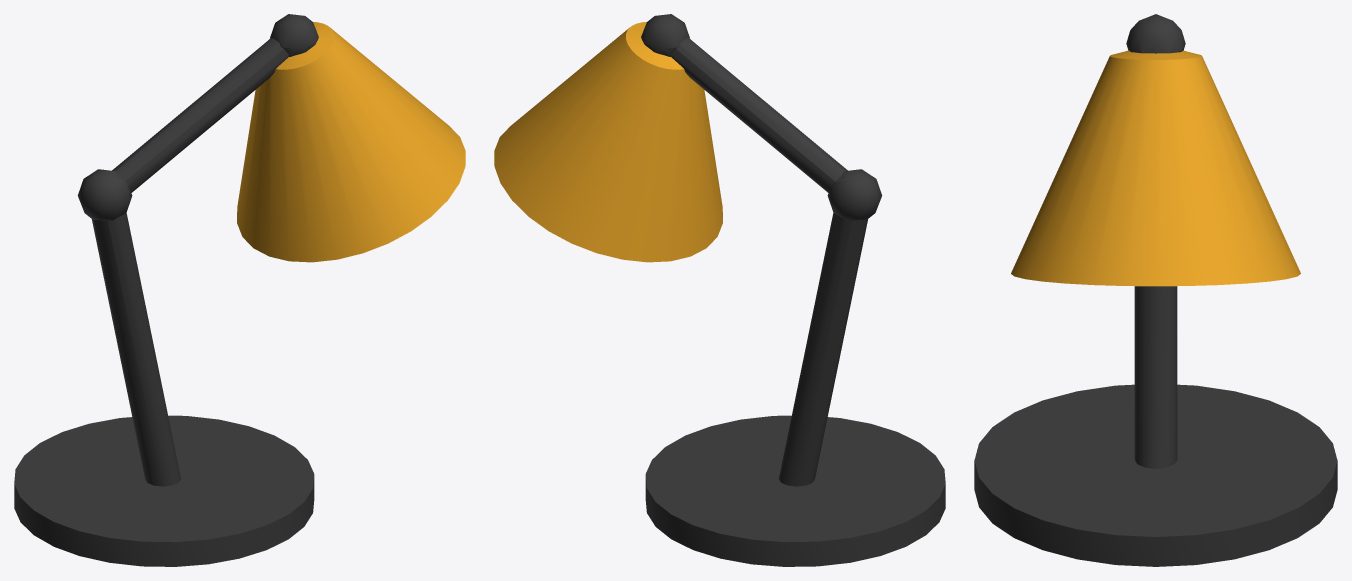
File: desk_lamp.glb
The picture shows the model from 3 angles, left to right: view 1: azimuth 30°, elevation 25°; view 2: azimuth 150°, elevation 25°; view 3: azimuth 270°, elevation 25°; orthographic projection. The views are drawn at different scales.
Visible parts, largest first — view 1: desk_lamp; view 2: desk_lamp; view 3: desk_lamp.
Part boxes in pixels (x1,y1,x2,y2): desk_lamp: [14, 14, 465, 566]; desk_lamp: [494, 14, 945, 566]; desk_lamp: [974, 14, 1337, 566].
Bounding box in the file's own units: 0.0857 × 0.09 × 0.0538.
